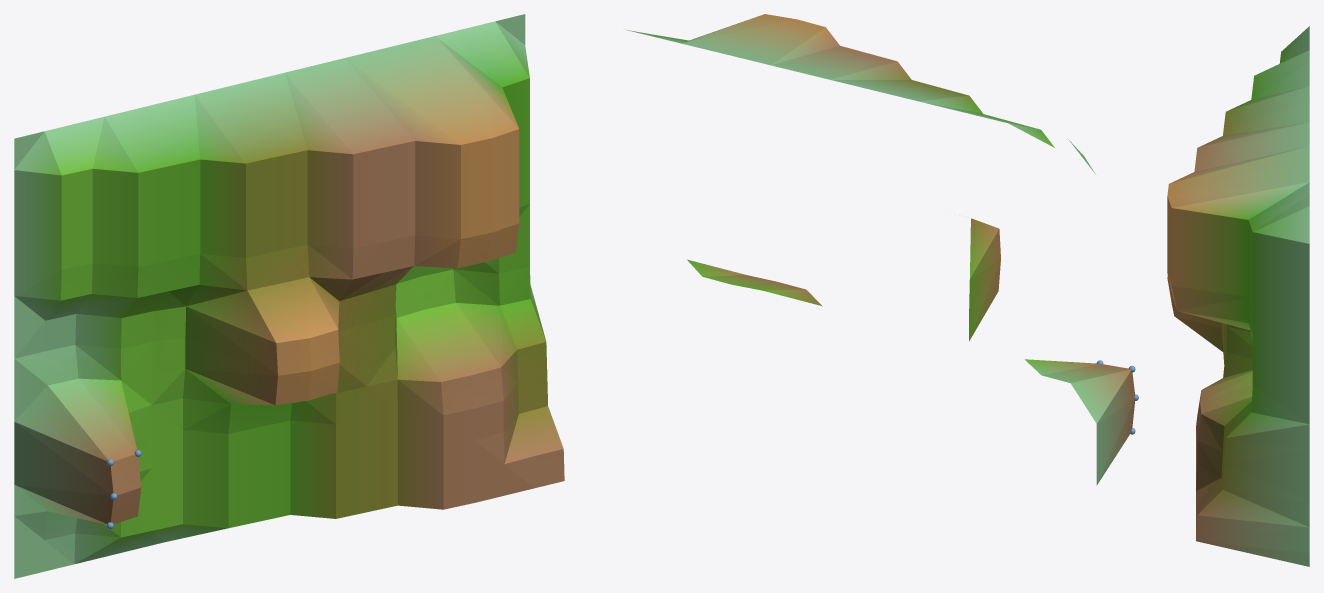
File: sample_terrain2.glb
The picture shows the model from 3 angles, left to right: view 1: azimuth 30°, elevation 25°; view 2: azimuth 150°, elevation 25°; view 3: azimuth 270°, elevation 25°; orthographic projection. The views are drawn at different scales.
Visible parts, largest first — view 1: world; view 2: world; view 3: world.
Boxes of the visible parts, x1=… form: world: x1=14, y1=14, x2=564, y2=578; world: x1=625, y1=14, x2=1138, y2=485; world: x1=1167, y1=26, x2=1309, y2=566.
Size of the model in its own units: 17 by 14 by 5.
